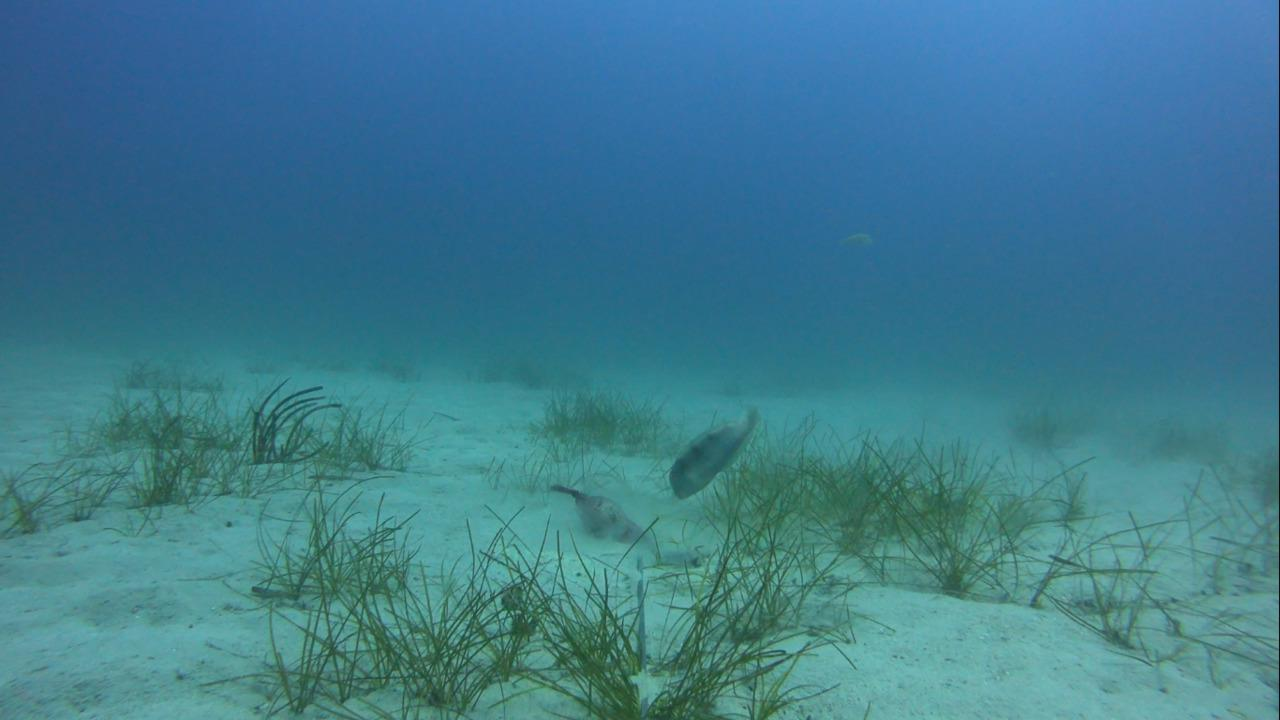raor: (667, 405, 756, 498), (832, 230, 875, 252)
